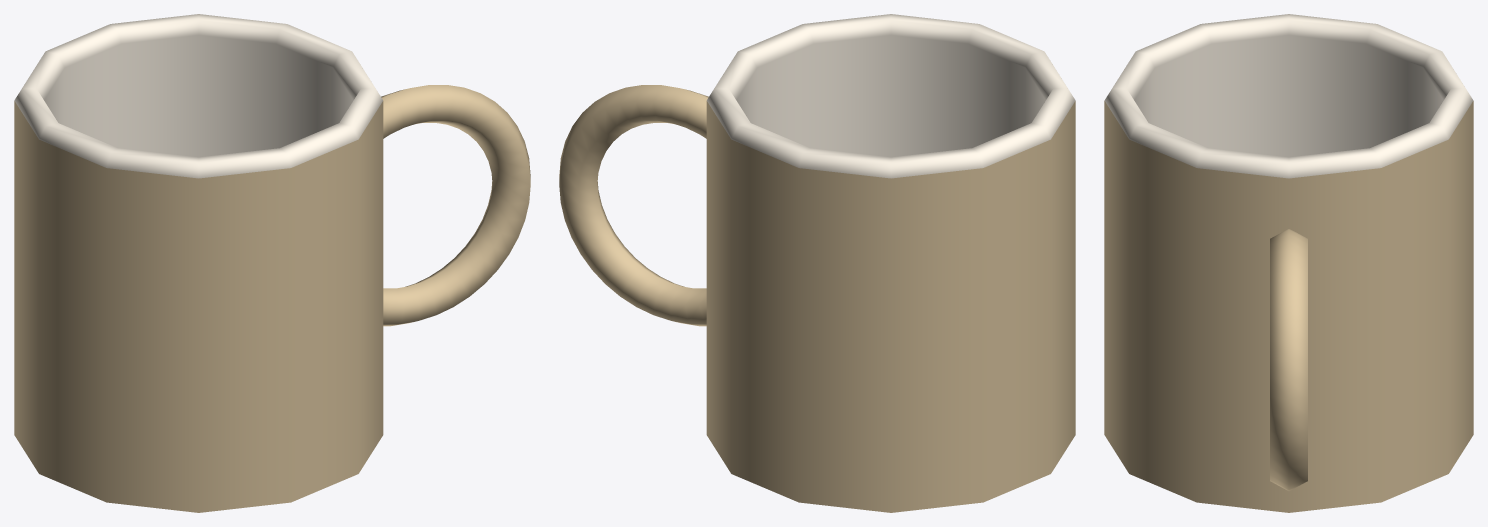
Rendered from mug.glb.
3 views of the same model, side by side, from view 1: azimuth 30°, elevation 25°; view 2: azimuth 150°, elevation 25°; view 3: azimuth 270°, elevation 25° (orthographic).
Parts seen in each view (by area): view 1: mug.material0, mug.material1; view 2: mug.material0, mug.material1; view 3: mug.material0, mug.material1.
Part boxes in pixels (x1,y1,x2,y2): mug.material0: (14,85,530,512); mug.material1: (14,14,383,178); mug.material0: (559,85,1075,512); mug.material1: (706,14,1075,178); mug.material0: (1104,101,1473,512); mug.material1: (1104,14,1473,178).
Bounding box in the file's own units: 0.3615 × 0.2432 × 0.235.
